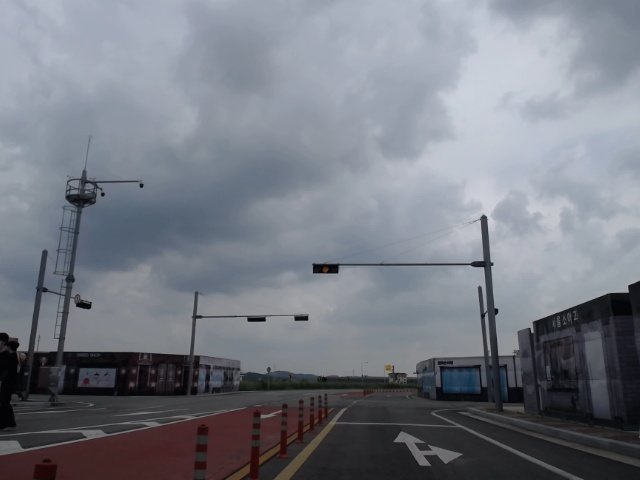orange_3: (313, 264, 340, 273)
